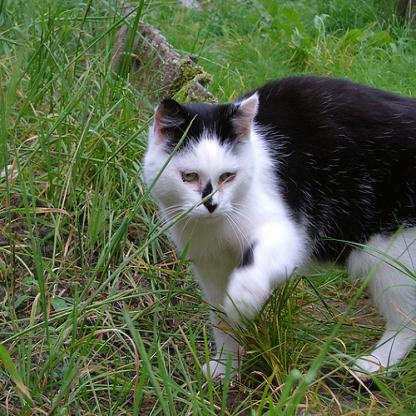cat: (137, 68, 413, 384)
